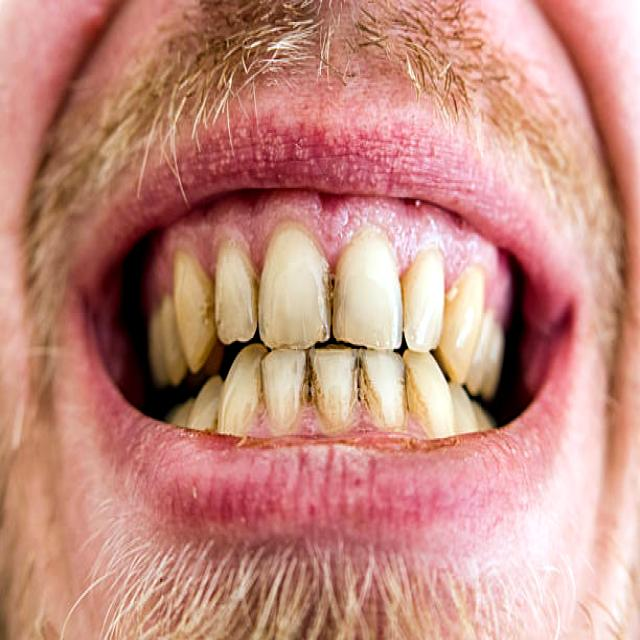calculus: (189, 255, 215, 372), (440, 274, 464, 378), (406, 366, 436, 437), (215, 239, 255, 282), (358, 351, 379, 426), (253, 357, 267, 426), (324, 274, 337, 342), (310, 355, 323, 415), (298, 358, 308, 427), (348, 354, 357, 422)
